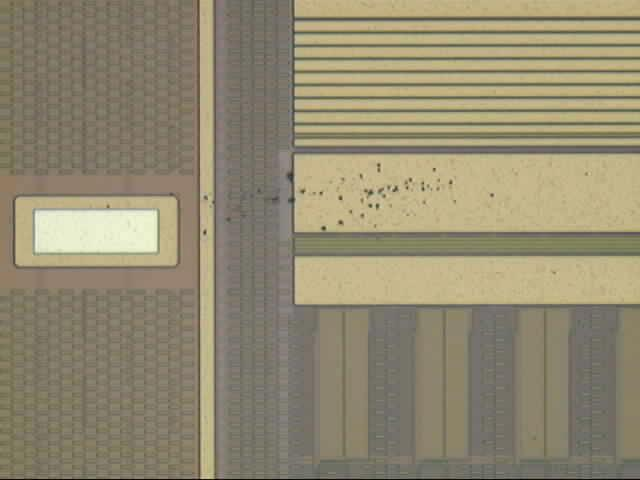PO CONTAMINATION: (102, 160, 596, 282)
